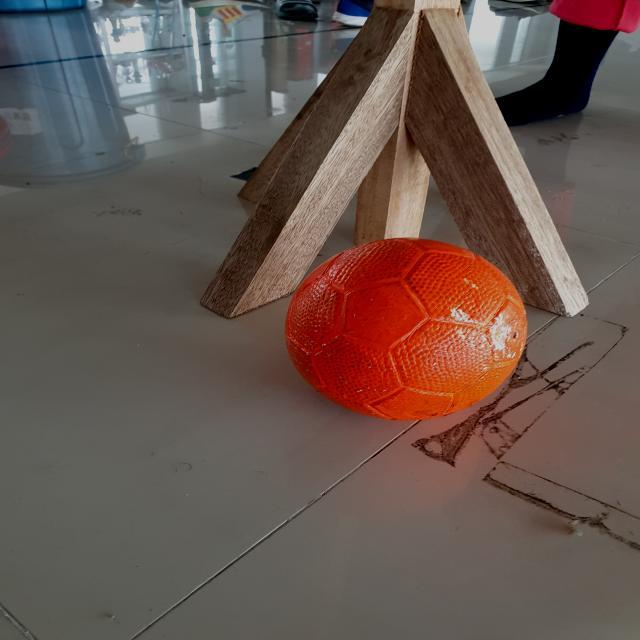bola: (249, 218, 552, 436)
